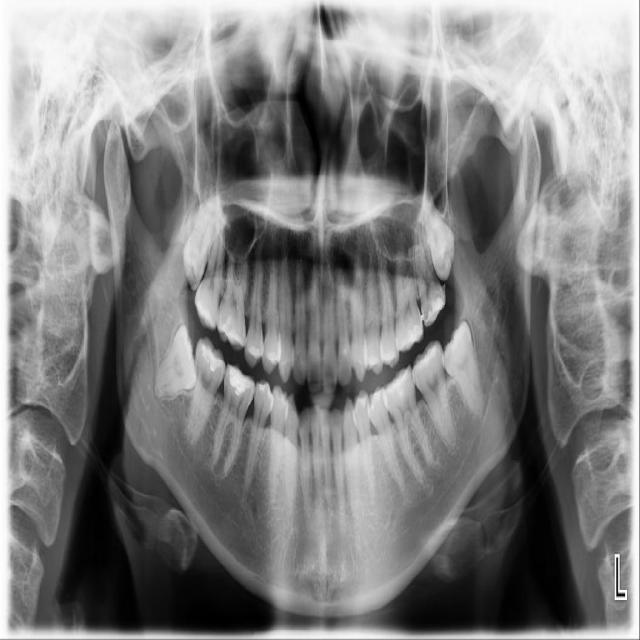Filling: (228, 366, 255, 395), (203, 345, 225, 372), (427, 297, 444, 323)
impacted tooth: (444, 322, 487, 420), (183, 195, 220, 289), (152, 326, 196, 398), (423, 200, 455, 281)
